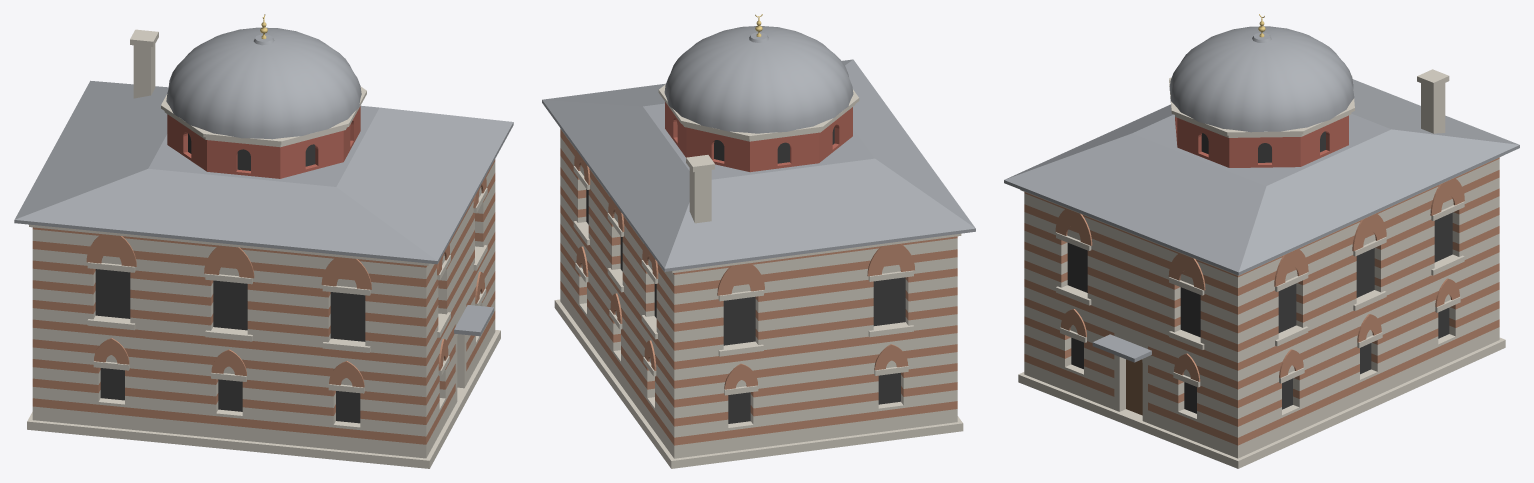
File: hagia-sophia-school.glb
3 renders of one model, left to right at view 1: azimuth 30°, elevation 25°; view 2: azimuth 150°, elevation 25°; view 3: azimuth 270°, elevation 25°, orthographic. The views are drawn at different scales.
Visible parts, largest first — view 1: hagia-sophia-school; view 2: hagia-sophia-school; view 3: hagia-sophia-school.
Boxes of the visible parts, left/top/right/bottom form: hagia-sophia-school: left=14, top=14, right=513, bottom=468; hagia-sophia-school: left=542, top=14, right=975, bottom=468; hagia-sophia-school: left=1004, top=14, right=1519, bottom=468.
Size of the model in its own units: 18.17 by 13.49 by 18.01.
